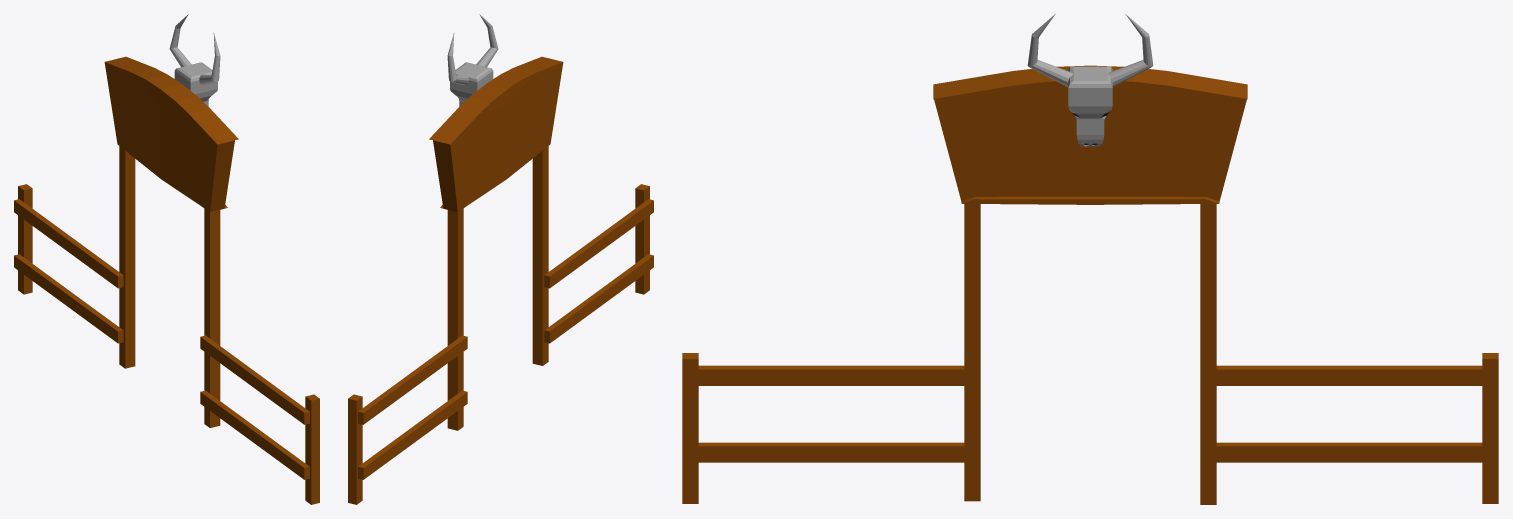
Rendered from Fence_2.fbx.
3 views of the same model, side by side, from view 1: azimuth 30°, elevation 25°; view 2: azimuth 150°, elevation 25°; view 3: azimuth 270°, elevation 25° (orthographic). The views are drawn at different scales.
Parts seen in each view (by area): view 1: Fence 2; view 2: Fence 2; view 3: Fence 2.
Part boxes in pixels (left/top/right/bottom): Fence 2: left=14, top=14, right=319, bottom=504; Fence 2: left=348, top=14, right=653, bottom=504; Fence 2: left=682, top=14, right=1498, bottom=504.
Bounding box in the file's own units: 104 × 713 × 1037.
